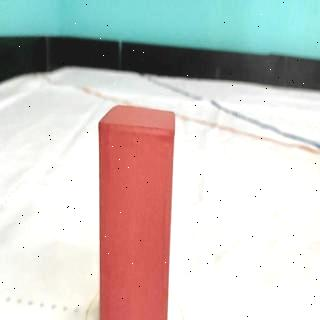redbox: (98, 103, 174, 320)
